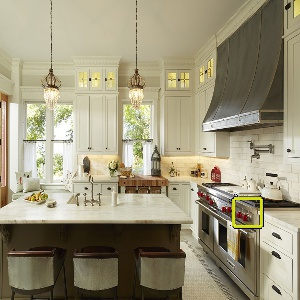square: (230, 195, 265, 228)
